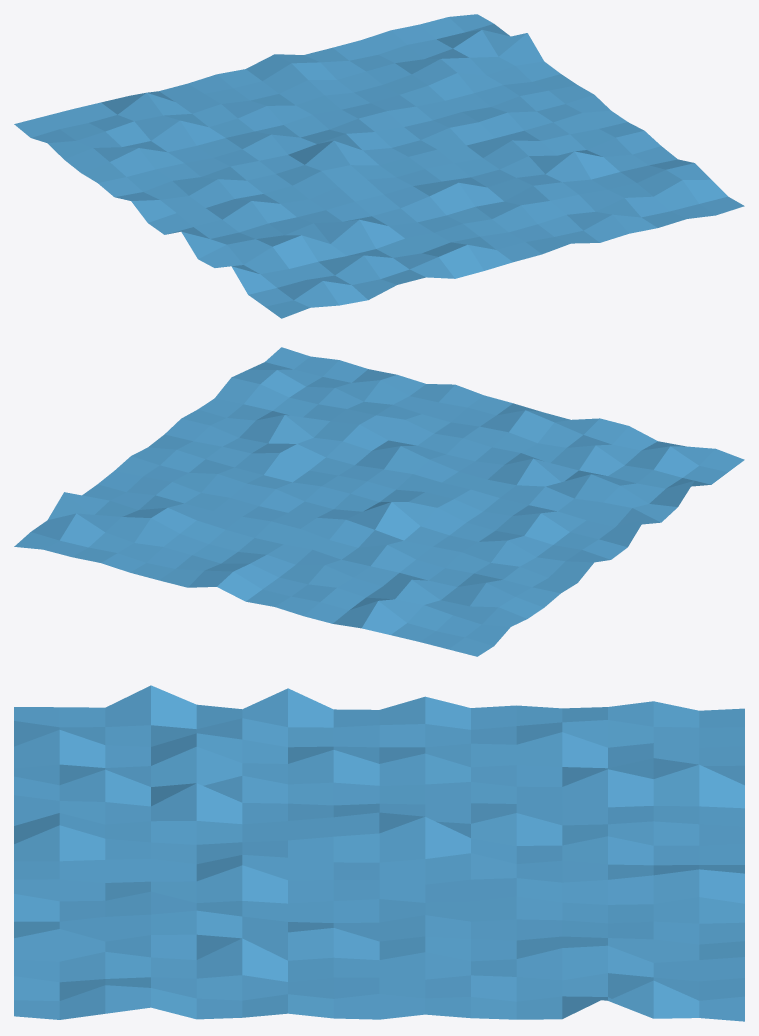
File: water_animated.fbx
3 renders of one model, top to bottom at view 1: azimuth 30°, elevation 25°; view 2: azimuth 150°, elevation 25°; view 3: azimuth 270°, elevation 25°, orthographic. The views are drawn at different scales.
Parts seen in each view (by area): view 1: Plane; view 2: Plane; view 3: Plane.
Boxes of the visible parts, left/top/right/bottom form: Plane: left=14, top=14, right=744, bottom=318; Plane: left=14, top=347, right=744, bottom=656; Plane: left=14, top=685, right=744, bottom=1021.
Bounding box in the file's own units: 80000 × 3782 × 80000.
